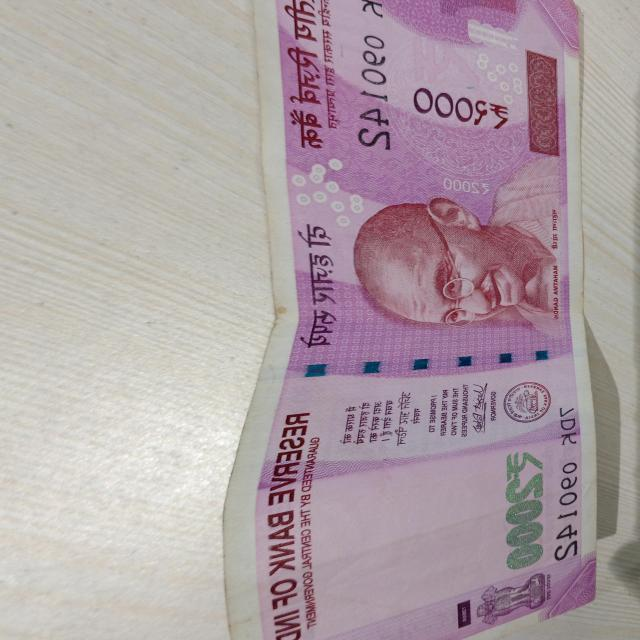Currency: (241, 0, 596, 610)
